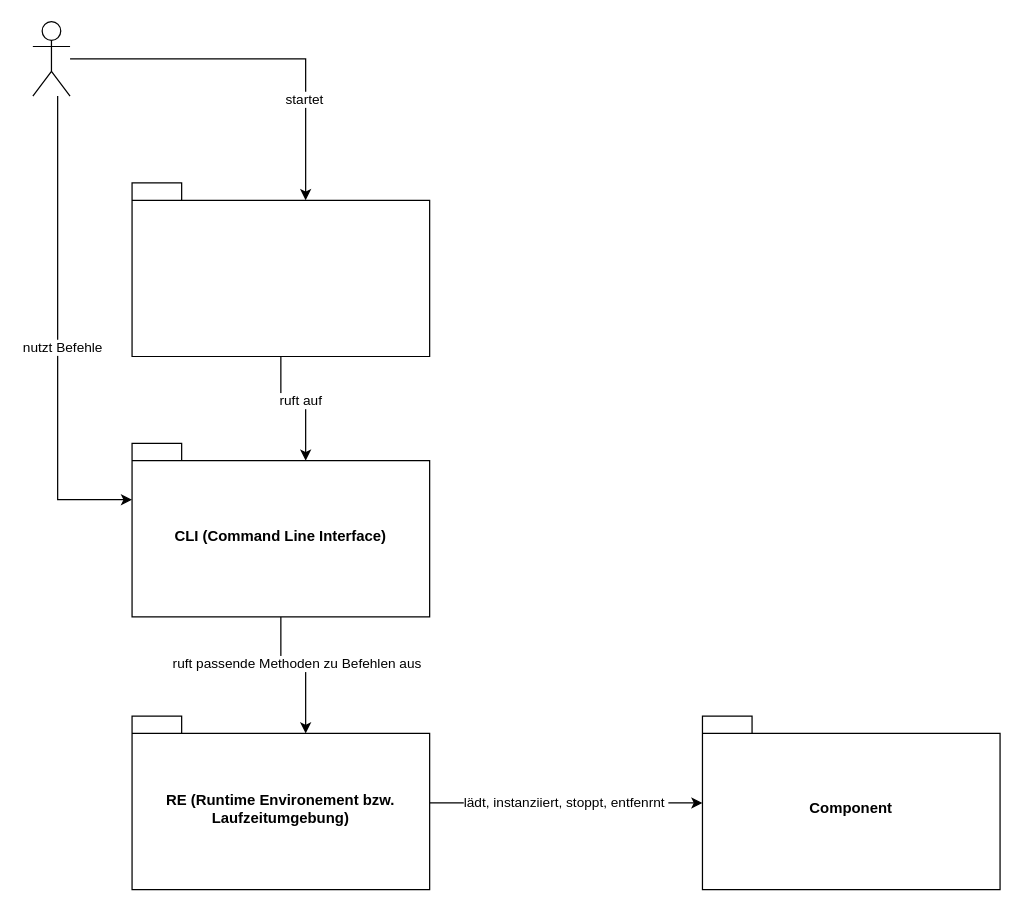
This 1022x911 diagram has some shape labels left out. The shapes that lost their labels are listed below. From the top down, each one's centre as x and y in pixels, then its label:
[51,58]: Benutzer
[280,269]: App (Auführbares Modul)
